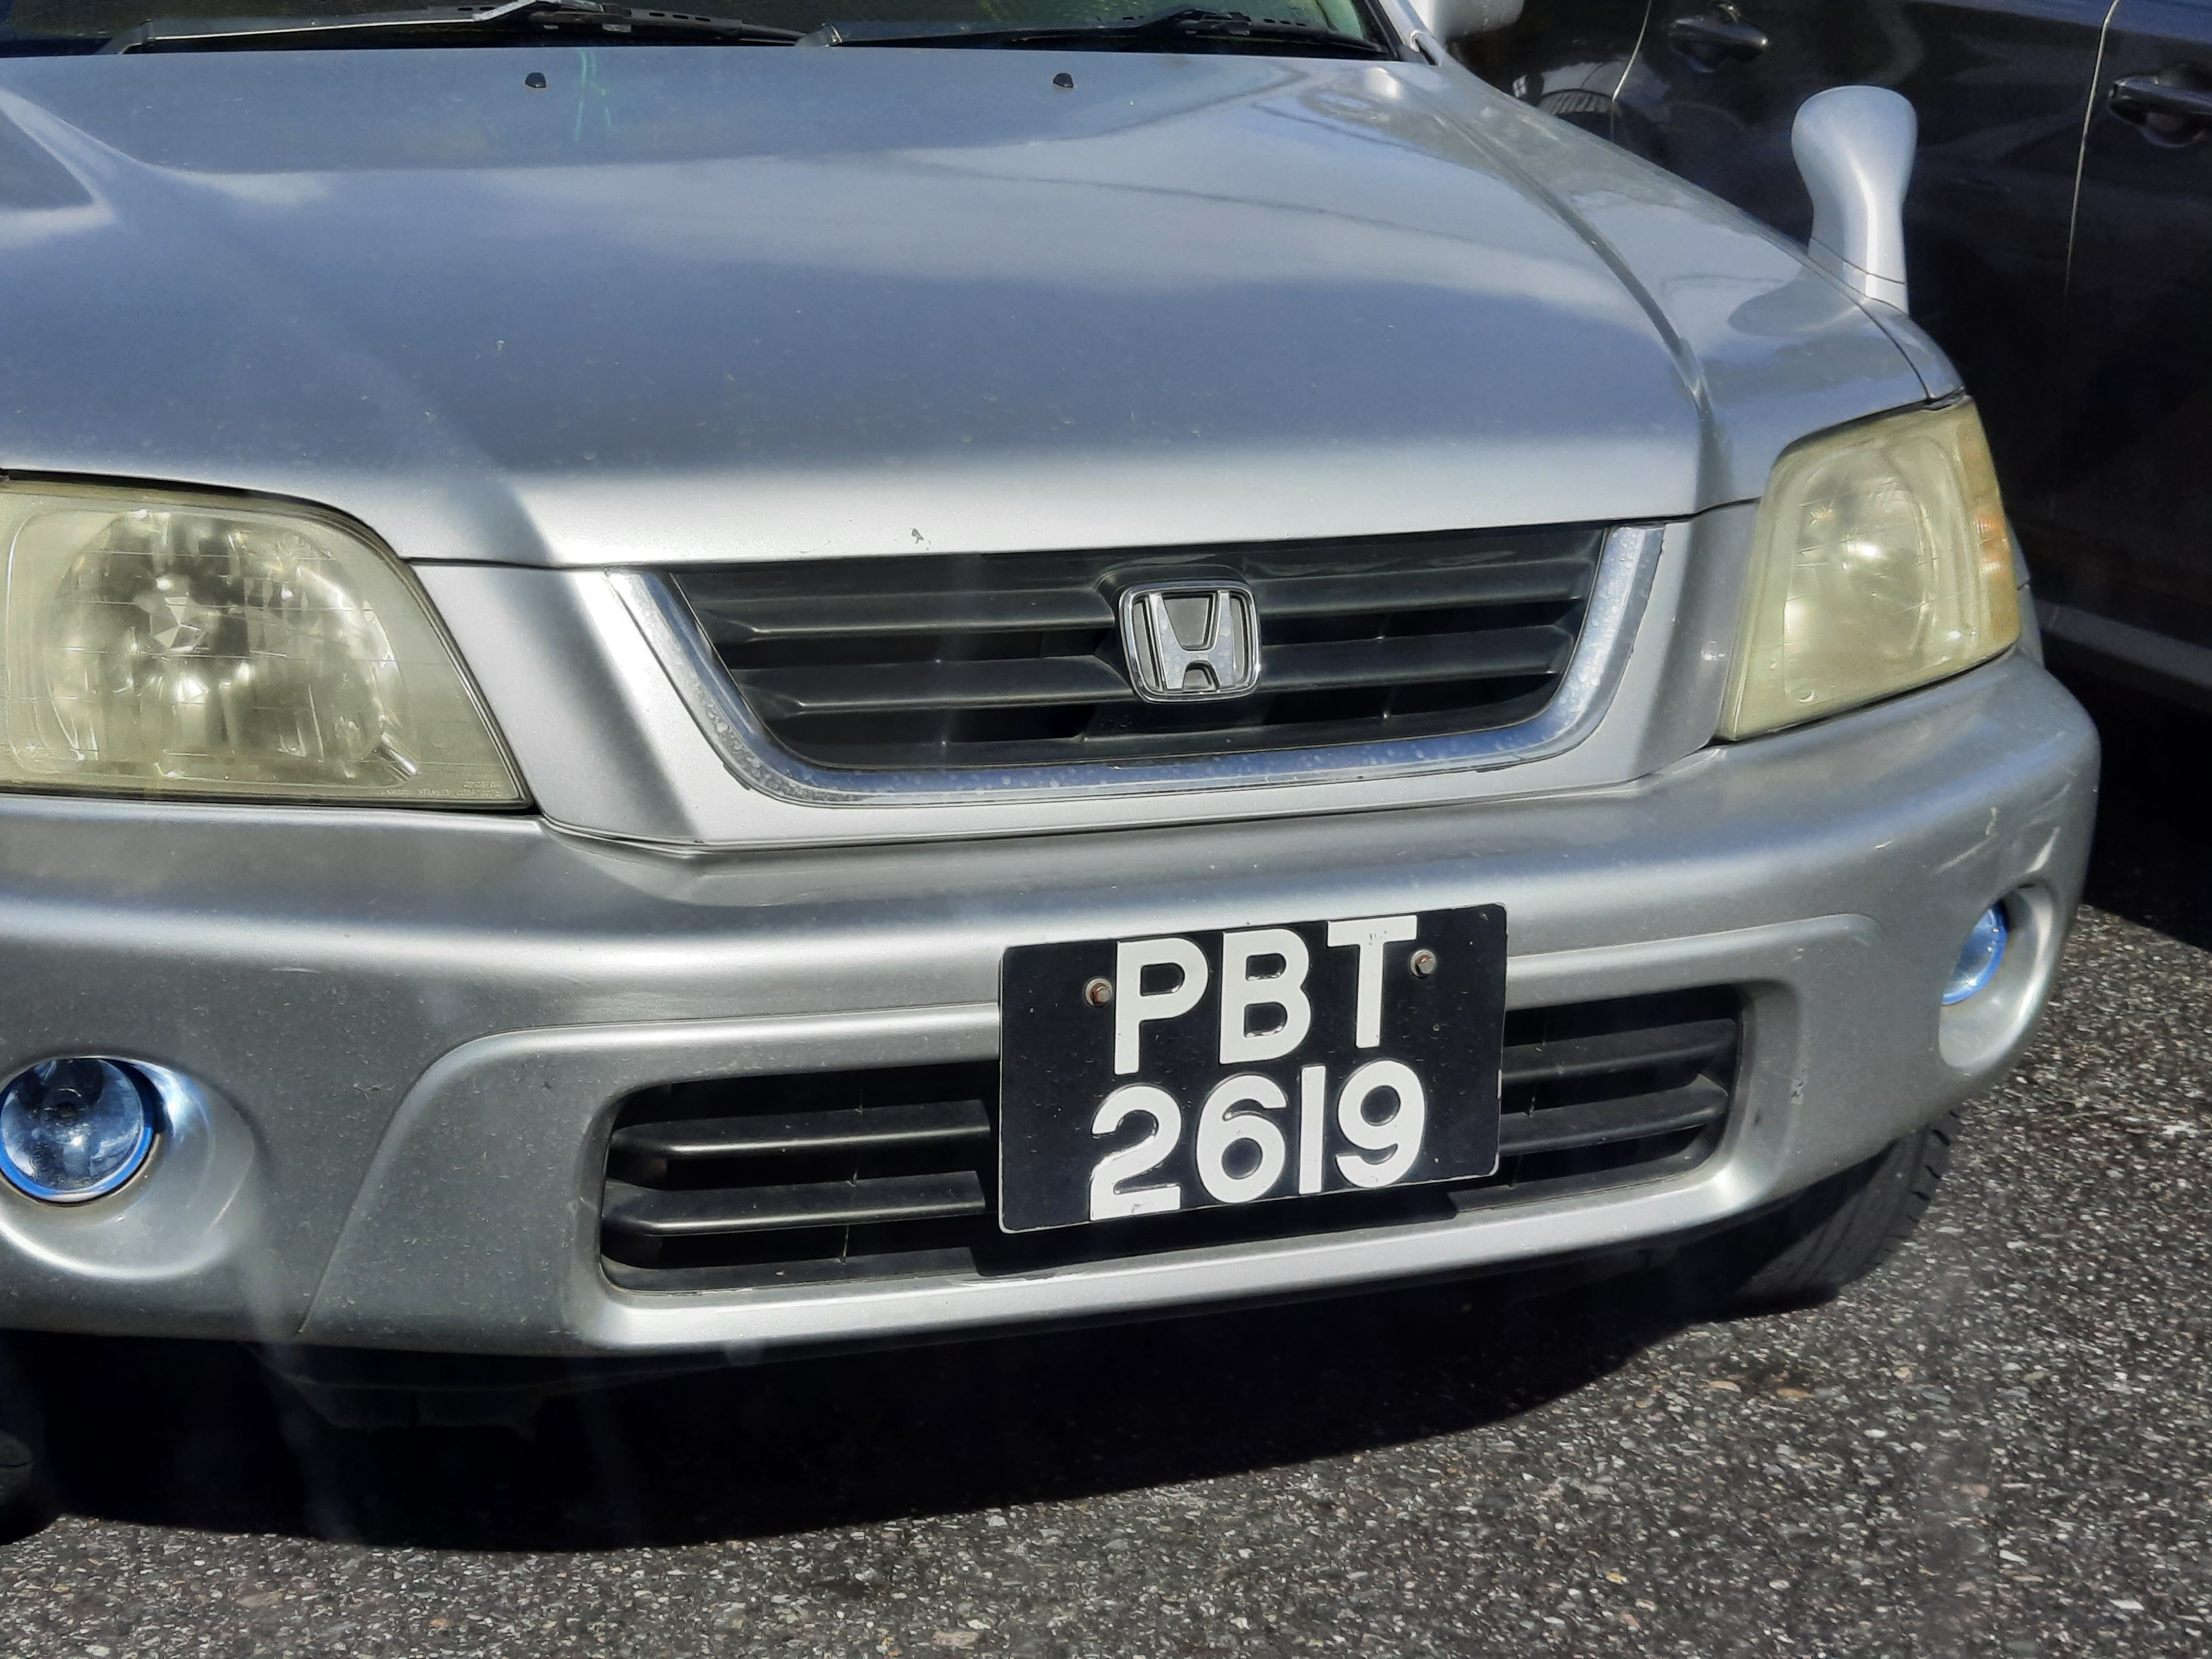License-Plate: (993, 947, 1487, 1232)
